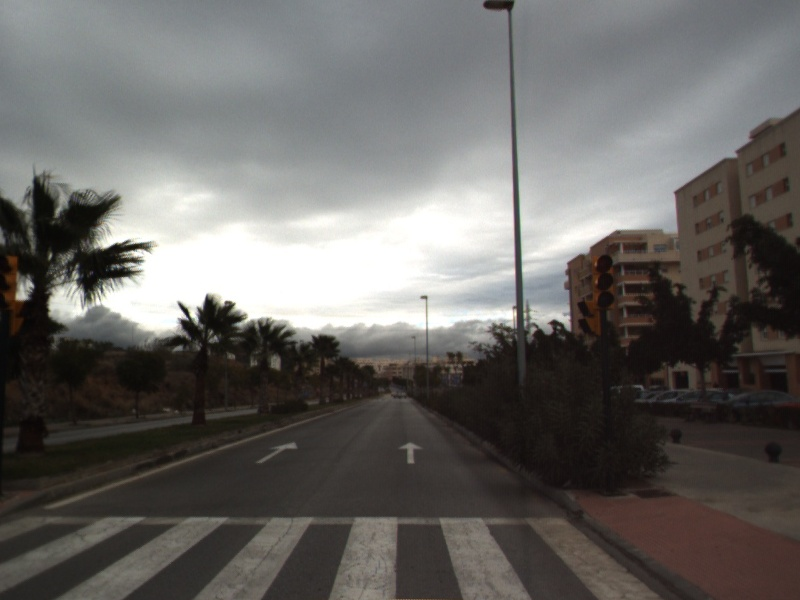STRAIGHT: (254, 440, 300, 465), (396, 440, 425, 465)
